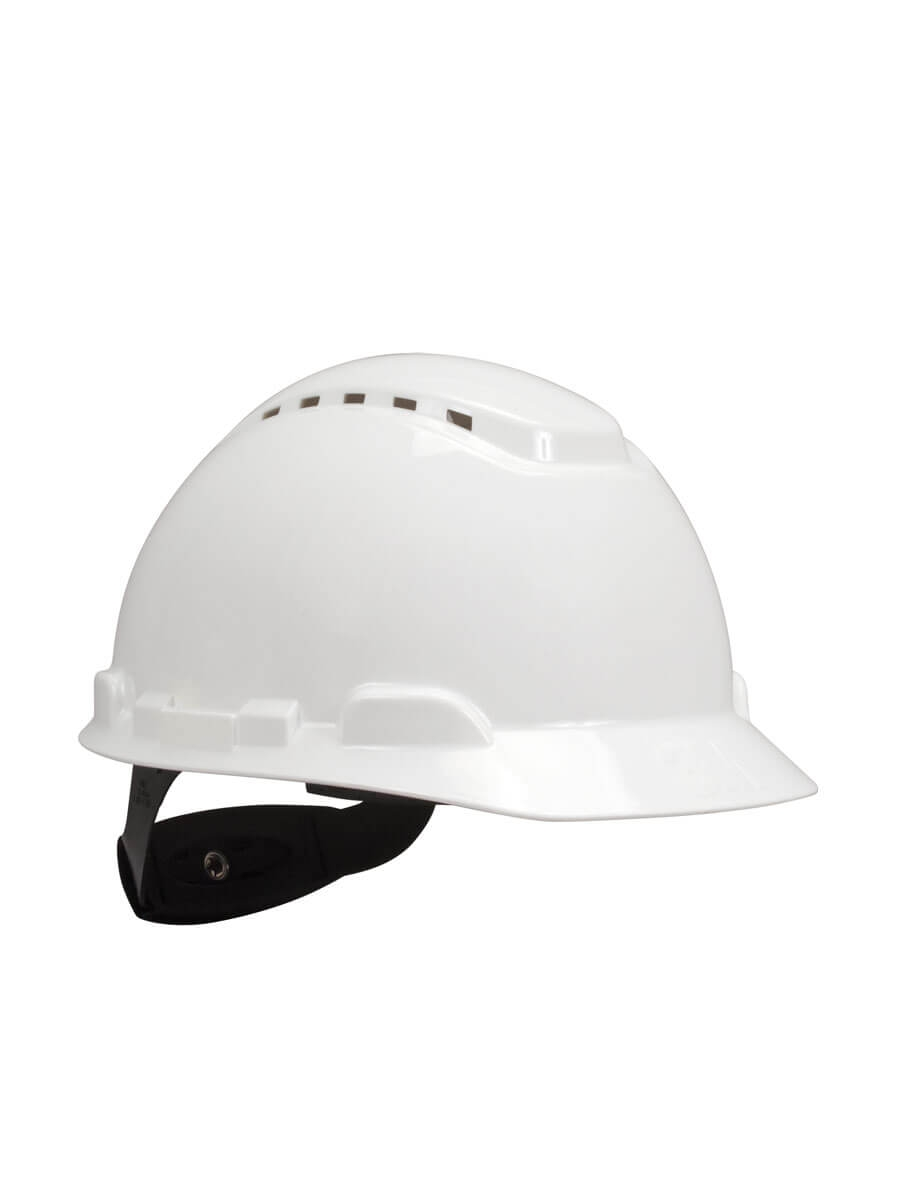baret: (76, 348, 834, 934)
